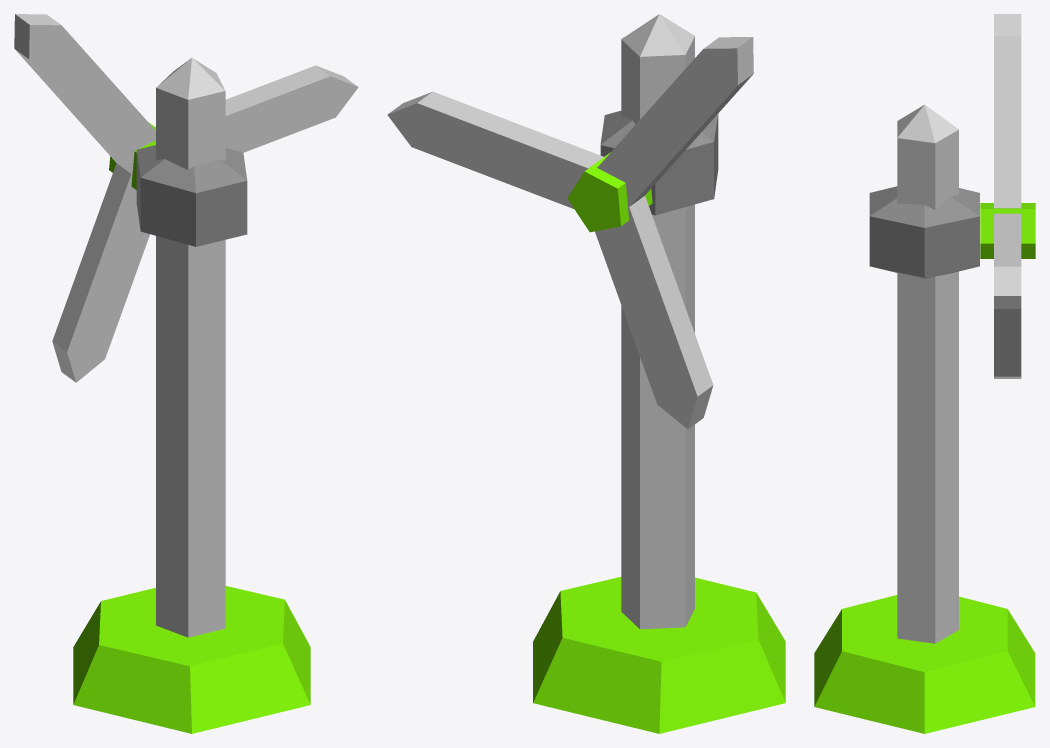
Rendered from wind.fbx.
The picture shows the model from 3 angles, left to right: view 1: azimuth 30°, elevation 25°; view 2: azimuth 150°, elevation 25°; view 3: azimuth 270°, elevation 25°; orthographic projection. The views are drawn at different scales.
Visible parts, largest first — view 1: sphere; view 2: sphere; view 3: sphere.
Part boxes in pixels (<box>): sphere: <box>14,14,358,733</box>; sphere: <box>387,14,785,733</box>; sphere: <box>814,14,1035,733</box>.
Size of the model in its own units: 40.09 by 76.08 by 25.04.
Materials: 2 (2 with a texture image).
